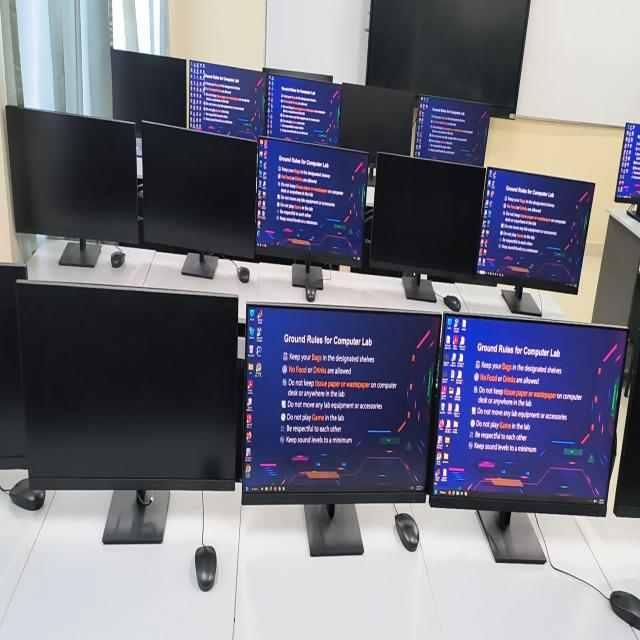Digital board: (366, 0, 530, 118)
Monitor: (15, 280, 241, 490), (242, 302, 441, 511), (429, 313, 627, 516), (6, 106, 138, 244), (142, 121, 257, 260), (476, 167, 594, 295), (370, 153, 485, 281), (256, 139, 368, 266), (111, 49, 186, 136), (189, 60, 266, 140), (339, 83, 416, 163), (0, 264, 27, 469), (267, 74, 342, 146), (414, 95, 490, 166), (613, 353, 640, 517), (614, 123, 640, 221), (263, 68, 332, 81)
Mouse: (9, 478, 45, 511), (610, 591, 640, 629), (195, 545, 216, 591), (395, 513, 419, 551), (444, 295, 461, 311), (111, 249, 125, 268), (237, 266, 250, 283), (306, 284, 317, 301)
